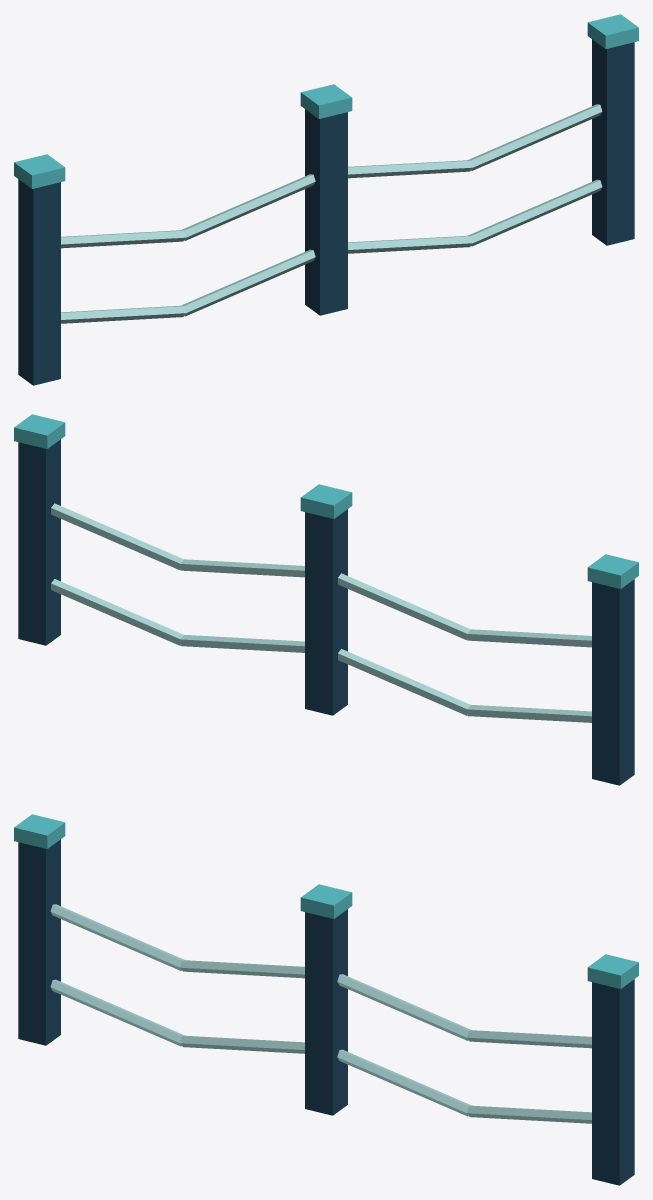
File: rope-marker.glb
3 views of the same model, one above another, from view 1: azimuth 30°, elevation 25°; view 2: azimuth 150°, elevation 25°; view 3: azimuth 330°, elevation 25° (orthographic).
Visible parts, largest first — view 1: rope-marker; view 2: rope-marker; view 3: rope-marker.
Part boxes in pixels (x1,y1,x2,y2): rope-marker: [14, 14, 638, 385]; rope-marker: [14, 414, 638, 785]; rope-marker: [14, 814, 638, 1185].
Bounding box in the file's own units: 3.28 × 1.1 × 0.17.
